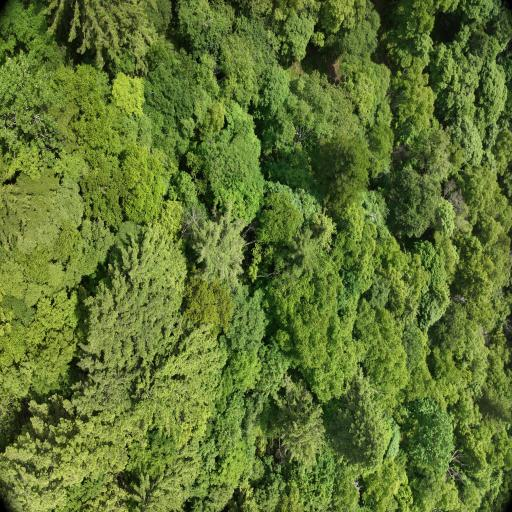dead-tree: (442, 178, 468, 215), (450, 293, 469, 307), (367, 212, 378, 222)
